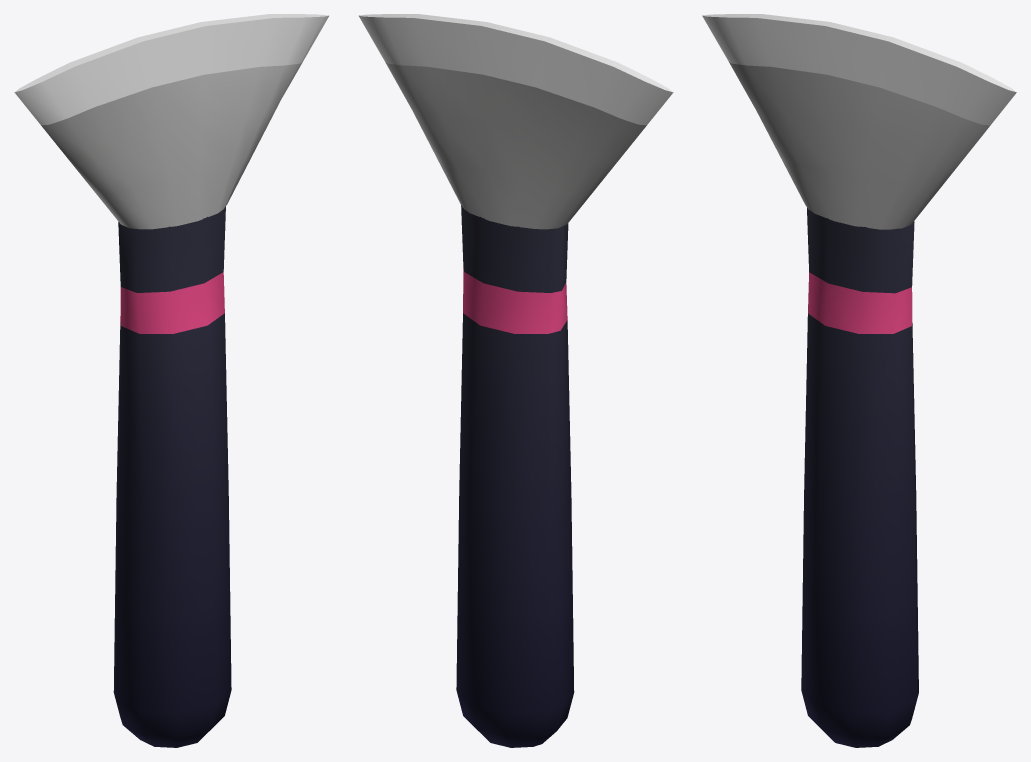
Rendered from Brush_01.fbx.
The picture shows the model from 3 angles, left to right: view 1: azimuth 30°, elevation 25°; view 2: azimuth 150°, elevation 25°; view 3: azimuth 330°, elevation 25°; orthographic projection.
Visible parts, largest first — view 1: Brush_01; view 2: Brush_01; view 3: Brush_01.
Boxes of the visible parts, x1,y1,x2,y2 form: Brush_01: (14,14,328,747); Brush_01: (359,14,673,747); Brush_01: (702,14,1016,747).
Size of the model in its own units: 0.0664 by 0.1434 by 0.0185.
1 material, 1 textured.
